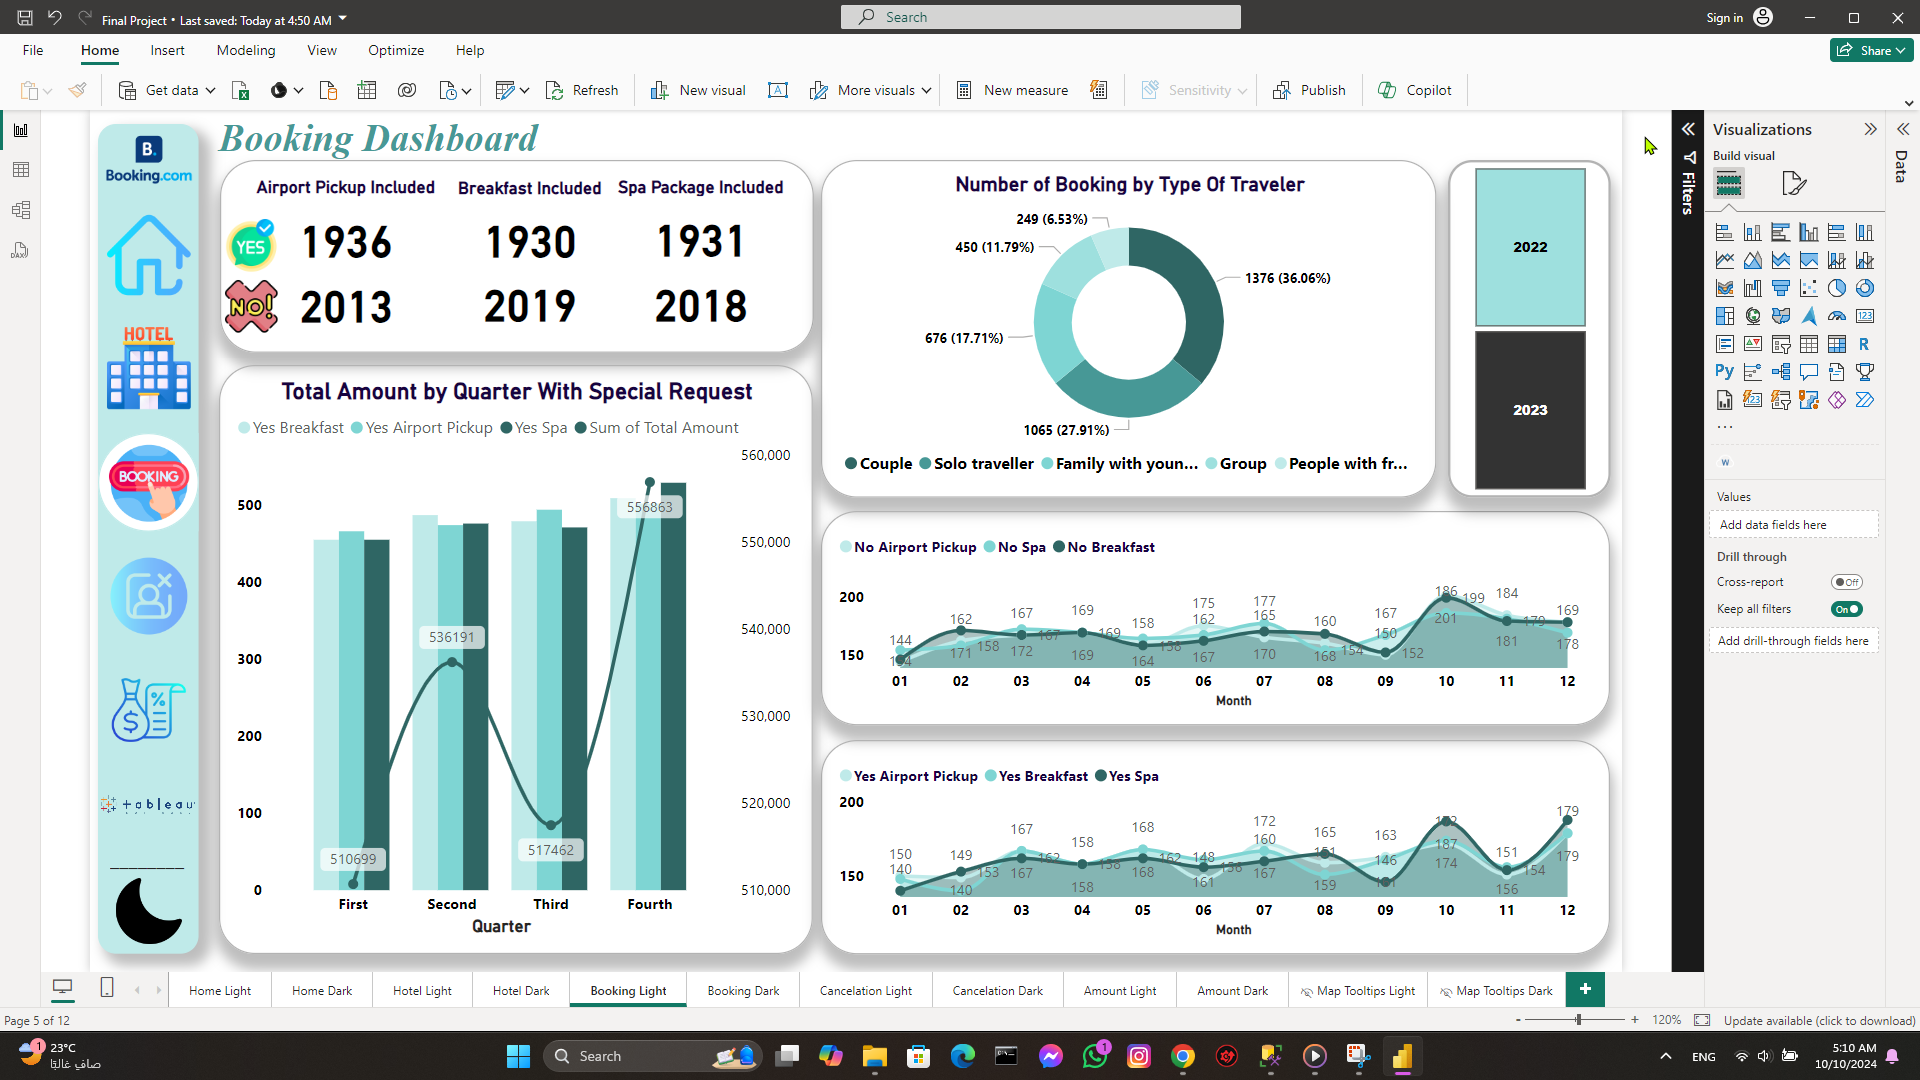

What the dashboard file says about the page in this screenshot:
{"tool":"tableau","page":{"name":"Booking Dashboard ","canvas":[1450,830],"ordinal":0},"visuals":[{"type":"image","param":"Image/boas.jpg","box":[8,8,1434,814]},{"type":"text","box":[508,26.4,370,34.2]},{"type":"image","param":"Image/choose.png","box":[91,28.3,47,39.1]},{"type":"text","box":[65,75.2,100,29.3]},{"type":"worksheet","title":"Num Of Completed and Cancelled Booking","mark":"Pie","box":[218,89,374,191]},{"type":"worksheet","title":" Booking with Breakfast Included","mark":"Automatic","rows":["Calculation_673288203220189195","Calculation_673288203220189195"],"box":[597,92,372,186]},{"type":"worksheet","title":"Bookings By Room Type ","mark":"Automatic","rows":["Booking_id_SK","Booking_id_SK"],"cols":["Room Type"],"box":[992,93,427,384]},{"type":"dashboard-object","box":[26,133.8,174,52.7]},{"type":"dashboard-object","box":[27,210.9,174,46.9]},{"type":"dashboard-object","box":[26,284.2,174,46.9]},{"type":"worksheet","title":" Booking with Spa Included","mark":"Automatic","rows":["Calculation_673288203220189195","Calculation_673288203220189195"],"box":[222,291,369,194]},{"type":"worksheet","title":" Booking with Airport Pickup Included","mark":"Automatic","rows":["Calculation_673288203220189195","Calculation_673288203220189195"],"box":[599,292,372,191]},{"type":"dashboard-object","box":[26,357.4,174,46.9]},{"type":"dashboard-object","box":[26,437.5,174,46.9]},{"type":"worksheet","title":"Num Of Bookings By Countries","mark":"Automatic","rows":["Booking_id_SK"],"cols":["Country"],"box":[219,496,1203,310]},{"type":"blank","box":[53,504,123,2]},{"type":"text","box":[80,519,73,34]},{"type":"dashboard-object","box":[71,565,76,39]},{"type":"dashboard-object","box":[122,565,91,39]},{"type":"blank","box":[51,631,123,2]},{"type":"text","box":[47,644,144,25]},{"type":"image","param":"Image/Microsoft-Power-BI-Symbol.png","box":[75,676,77,61]}]}

Visuals, with their boxes on the page's 1450x830 design canvas (x1, y1, x2, y2). These are canvas units, not pixel positions in the 1920x1080 screenshot, which may show the page scaled, cropped or inside an application window:
image: 8/8/1442/822
text: 508/26/878/61
image: 91/28/138/67
text: 65/75/165/104
"Num Of Completed and Cancelled Booking" worksheet (Pie marks): 218/89/592/280
" Booking with Breakfast Included" worksheet: 597/92/969/278
"Bookings By Room Type " worksheet: 992/93/1419/477
dashboard-object: 26/134/200/186
dashboard-object: 27/211/201/258
dashboard-object: 26/284/200/331
" Booking with Spa Included" worksheet: 222/291/591/485
" Booking with Airport Pickup Included" worksheet: 599/292/971/483
dashboard-object: 26/357/200/404
dashboard-object: 26/438/200/484
"Num Of Bookings By Countries" worksheet: 219/496/1422/806
blank: 53/504/176/506
text: 80/519/153/553
dashboard-object: 71/565/147/604
dashboard-object: 122/565/213/604
blank: 51/631/174/633
text: 47/644/191/669
image: 75/676/152/737
